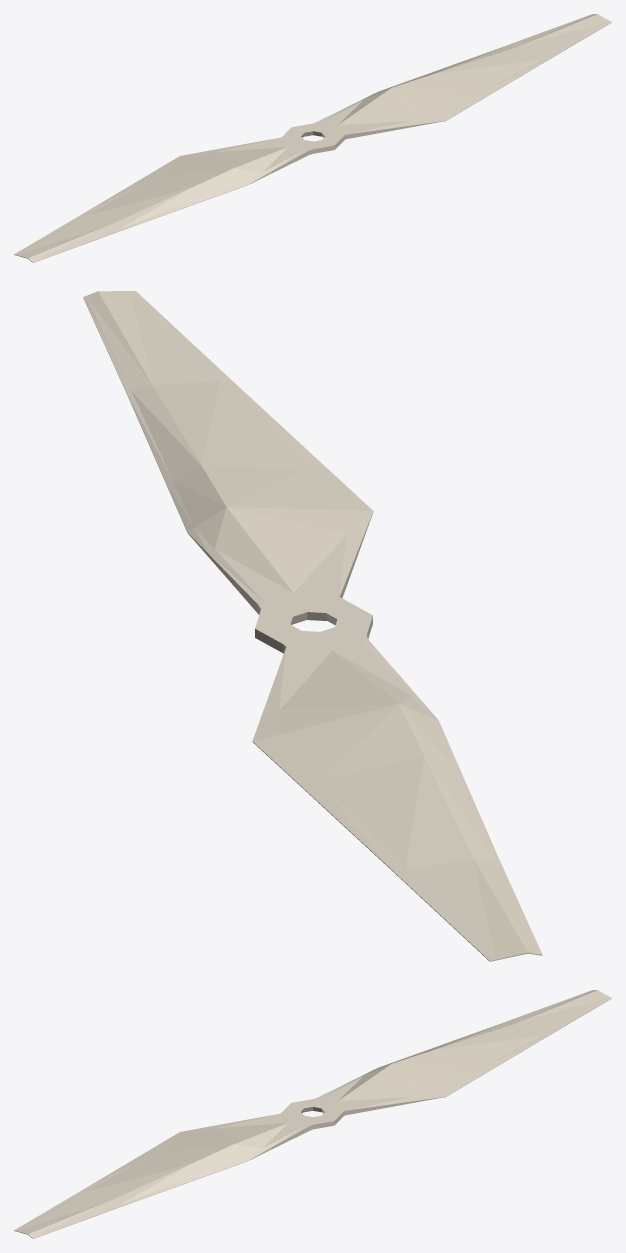
Rendered from tailLeft.FBX.
3 renders of one model, top to bottom at view 1: azimuth 90°, elevation 25°; view 2: azimuth 150°, elevation 25°; view 3: azimuth 270°, elevation 25°, orthographic. The views are drawn at different scales.
Parts seen in each view (by area): view 1: tailLeft; view 2: tailLeft; view 3: tailLeft.
Boxes of the visible parts, x1,y1,x2,y2 form: tailLeft: [14, 14, 611, 262]; tailLeft: [83, 291, 542, 961]; tailLeft: [14, 990, 611, 1238].
Size of what is drawn, in the model's own units: 116 by 118 by 2.78.
